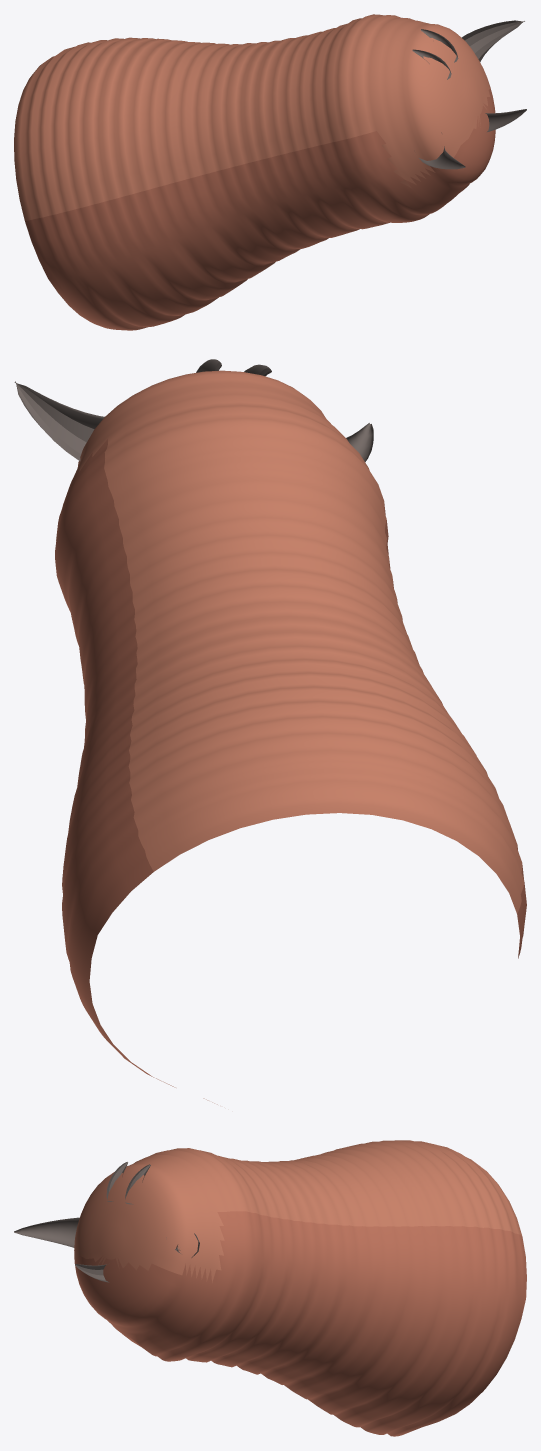
File: big-worm-turret-corpse.glb
3 renders of one model, top to bottom at view 1: azimuth 30°, elevation 25°; view 2: azimuth 150°, elevation 25°; view 3: azimuth 270°, elevation 25°, orthographic. The views are drawn at different scales.
Parts seen in each view (by area): view 1: body; view 2: body; view 3: body.
Boxes of the visible parts, left/top/right/bottom form: body: left=14, top=14, right=526, bottom=330; body: left=14, top=359, right=526, bottom=1104; body: left=14, top=1140, right=526, bottom=1436.
Size of the model in its own units: 4.2 by 3.33 by 4.63.
